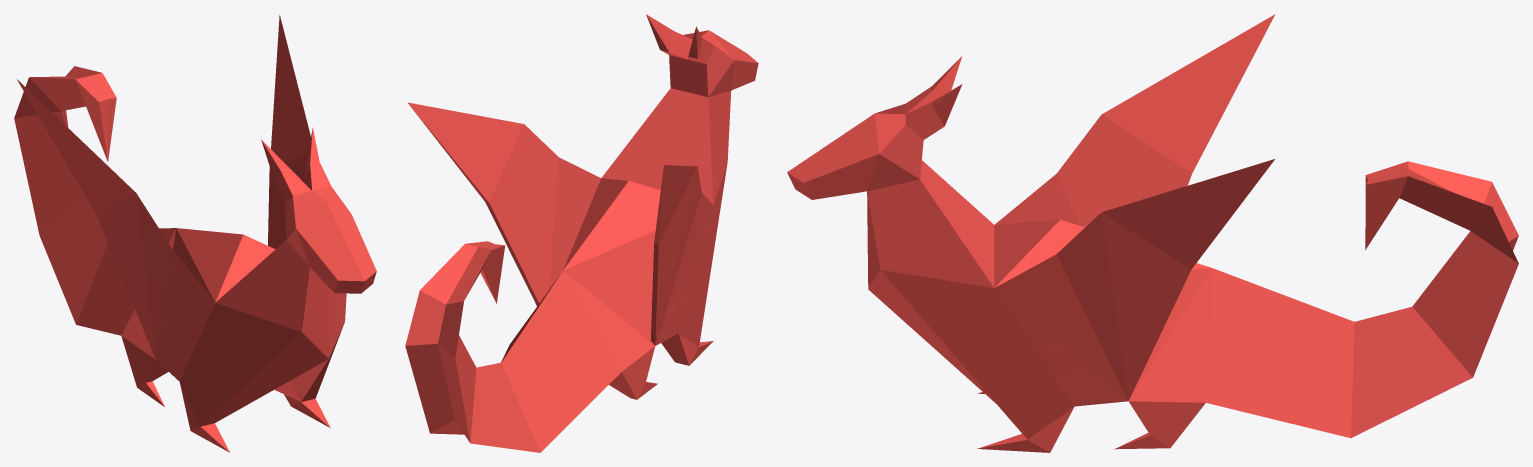
The model's file is dragon.glb.
3 renders of one model, left to right at view 1: azimuth 30°, elevation 25°; view 2: azimuth 150°, elevation 25°; view 3: azimuth 270°, elevation 25°, orthographic. The views are drawn at different scales.
Parts seen in each view (by area): view 1: Dragon; view 2: Dragon; view 3: Dragon.
Part boxes in pixels (x1,y1,x2,y2): Dragon: [14, 15, 376, 452]; Dragon: [405, 14, 758, 452]; Dragon: [787, 14, 1518, 452].
Bounding box in the file's own units: 1.4 × 1.59 × 2.99.
